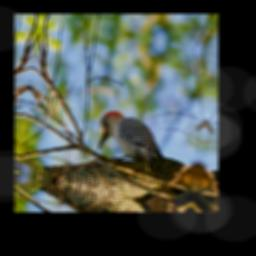Woodpecker: (90, 95, 178, 178)
